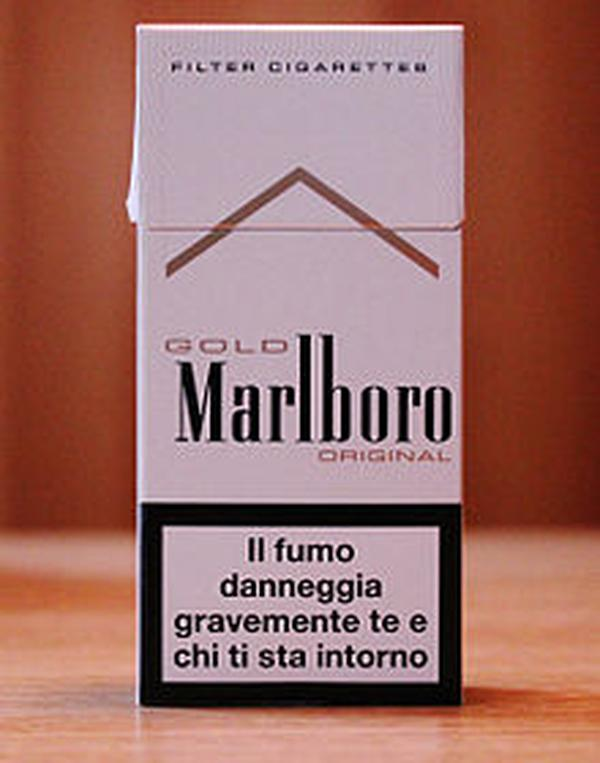marlboro_gold: (141, 29, 462, 699)
